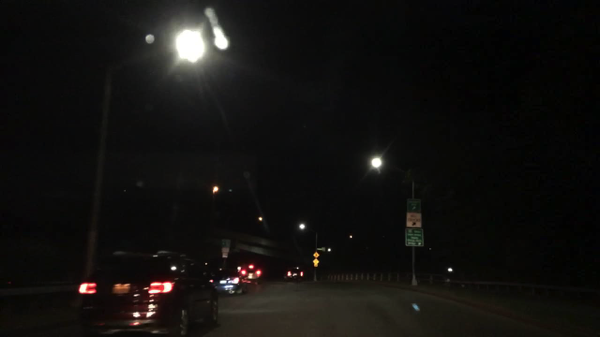car: (78, 251, 217, 336), (216, 270, 247, 295), (240, 264, 261, 283), (284, 266, 304, 282)
traffic sign: (404, 228, 424, 246), (406, 213, 422, 228), (407, 199, 421, 213), (220, 239, 230, 247), (313, 252, 319, 258), (221, 248, 229, 252), (222, 253, 228, 258), (313, 259, 319, 264), (314, 264, 318, 267)
